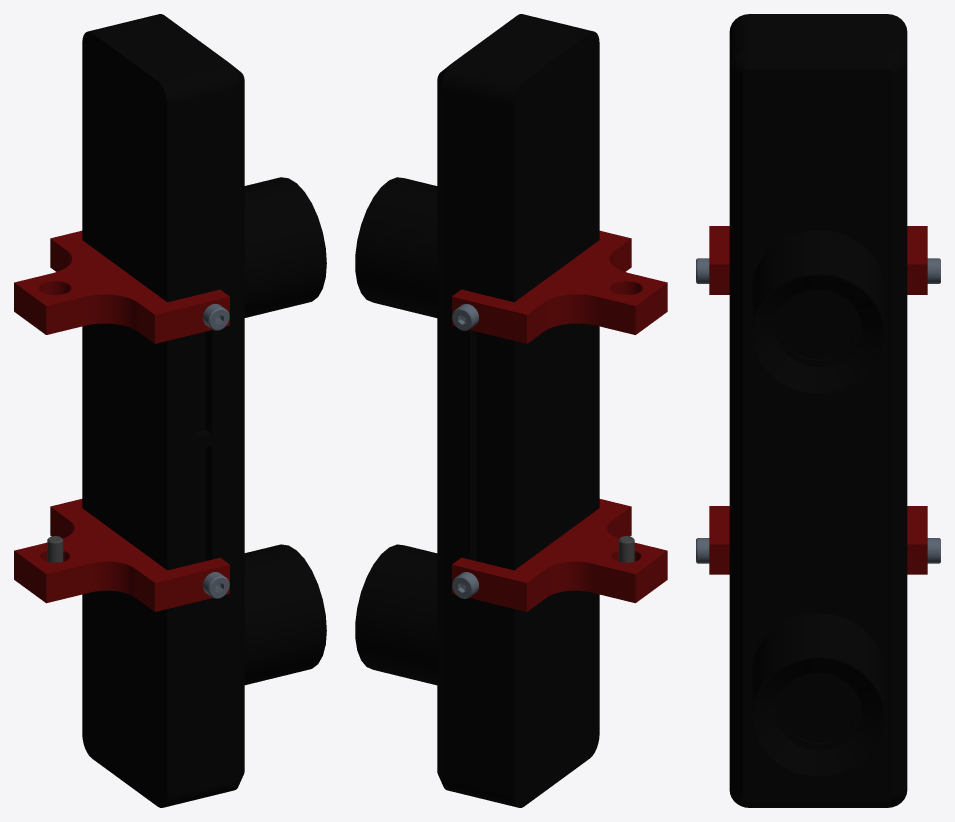
Rendered from zed_mini_servo_down.dae.
3 views of the same model, side by side, from view 1: azimuth 30°, elevation 25°; view 2: azimuth 150°, elevation 25°; view 3: azimuth 270°, elevation 25° (orthographic). The views are drawn at different scales.
Visible parts, largest first — view 1: Body_1 (×5); view 2: Body_1 (×5); view 3: Body_1 (×3).
Boxes of the visible parts, x1,y1,x2,y2 form: Body_1 (×5): [14, 14, 326, 807]; Body_1 (×5): [355, 14, 667, 807]; Body_1 (×3): [709, 14, 927, 807].
Bounding box in the file's own units: 0.0475 × 0.0365 × 0.1245.
